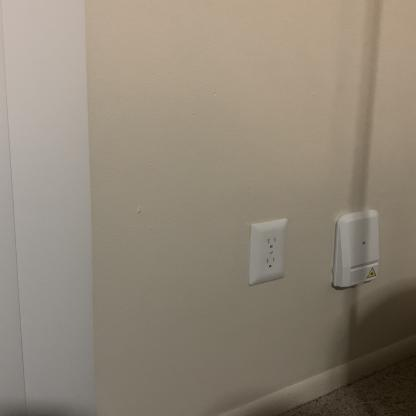OUTLET: (249, 218, 286, 284)
